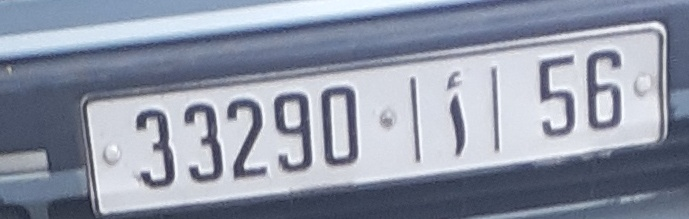0: (318, 81, 361, 171)
2: (228, 92, 268, 188)
3: (135, 101, 180, 193), (183, 97, 227, 187)
5: (534, 46, 580, 147)
6: (580, 44, 631, 137)
9: (273, 82, 316, 179)
a: (440, 64, 478, 162)
